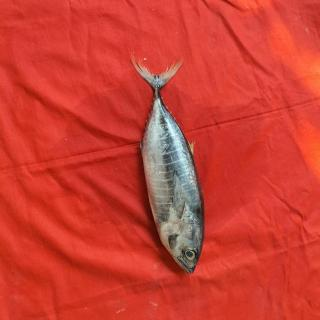Ikan: (122, 48, 218, 284)
